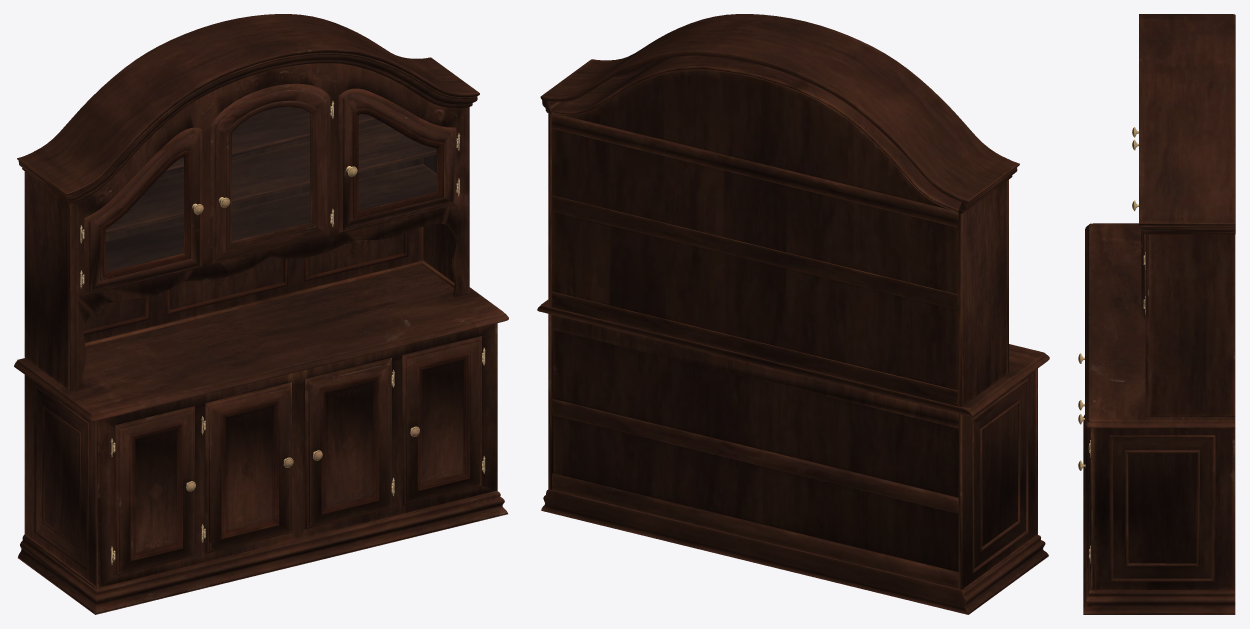
The model's file is vintage_cabinet_01.glb.
3 views of the same model, side by side, from view 1: azimuth 30°, elevation 25°; view 2: azimuth 150°, elevation 25°; view 3: azimuth 270°, elevation 25° (orthographic). The views are drawn at different scales.
Parts seen in each view (by area): view 1: vintage_cabinet_01_body, vintage_cabinet_01_door_01; view 2: vintage_cabinet_01_body; view 3: vintage_cabinet_01_body.
Boxes of the visible parts, <box> form: vintage_cabinet_01_body: <box>14,14,508,614</box>; vintage_cabinet_01_door_01: <box>106,107,436,271</box>; vintage_cabinet_01_body: <box>537,14,1049,614</box>; vintage_cabinet_01_body: <box>1078,14,1235,614</box>.
Size of the model in its own units: 2.02 by 2.24 by 0.6698.
3 materials, 2 textured.
